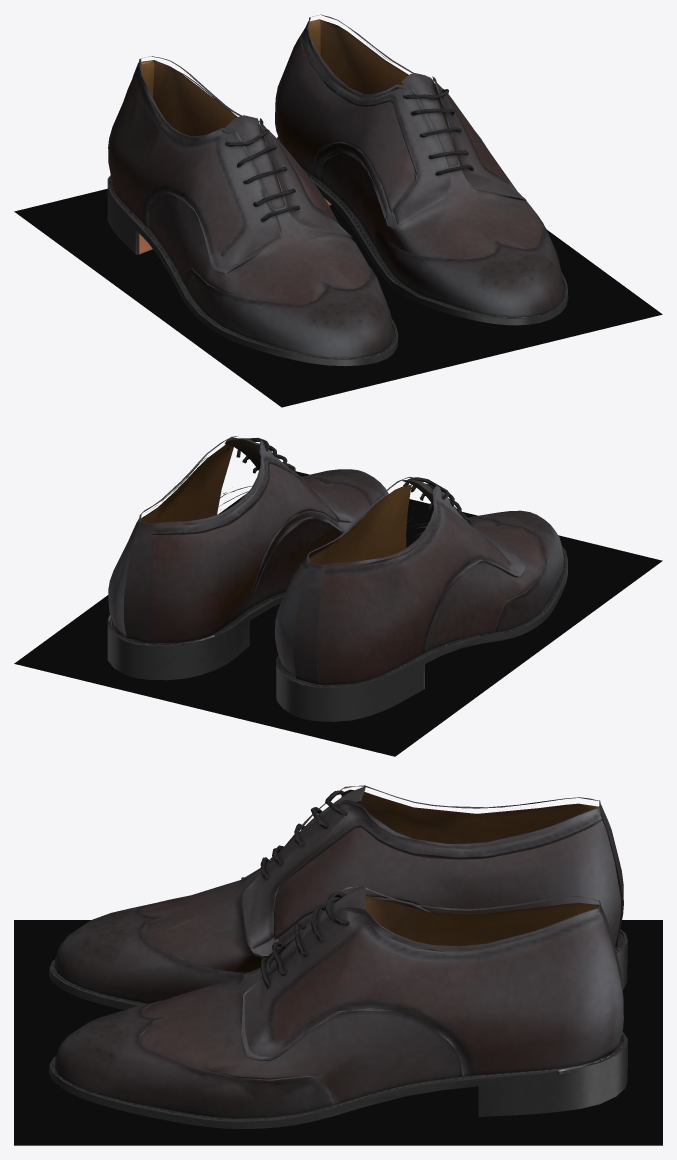
The model's file is Others_c7f61f7a-2db0-5ba0-bf0d-d9a8eeb3db69.glb.
3 views of the same model, one above another, from view 1: azimuth 30°, elevation 25°; view 2: azimuth 150°, elevation 25°; view 3: azimuth 270°, elevation 25° (orthographic). The views are drawn at different scales.
Visible parts, largest first — view 1: raw_model.obj; view 2: raw_model.obj; view 3: raw_model.obj.
Part boxes in pixels (x1=…): raw_model.obj: x1=14, y1=14, x2=662, y2=407; raw_model.obj: x1=14, y1=436, x2=662, y2=756; raw_model.obj: x1=14, y1=785, x2=662, y2=1145.
Bounding box in the file's own units: 0.2521 × 0.1015 × 0.3067.
1 material, 1 textured.
